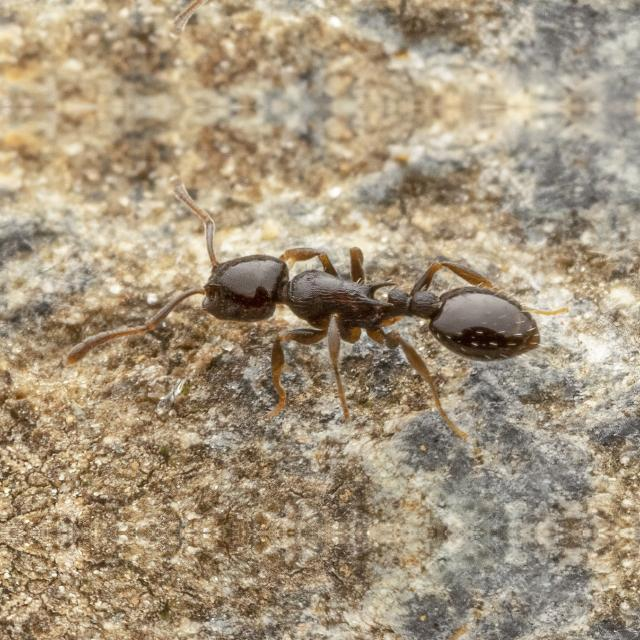Temnothorax: (128, 199, 580, 407)
